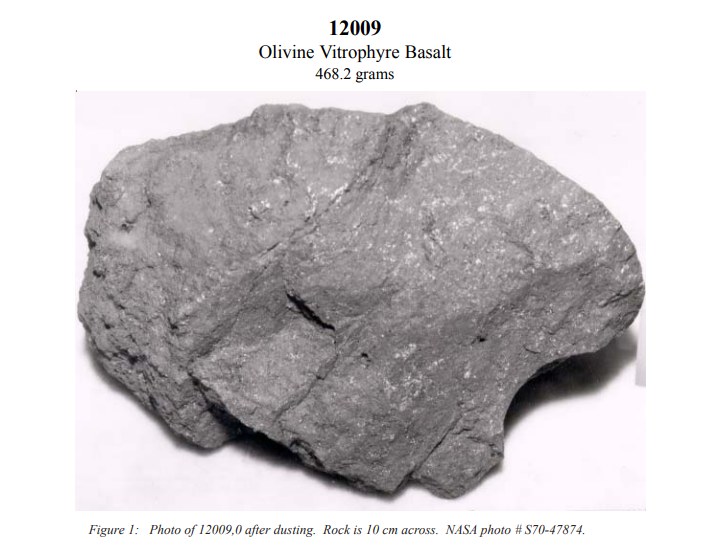Basalt: (77, 91, 653, 499)
